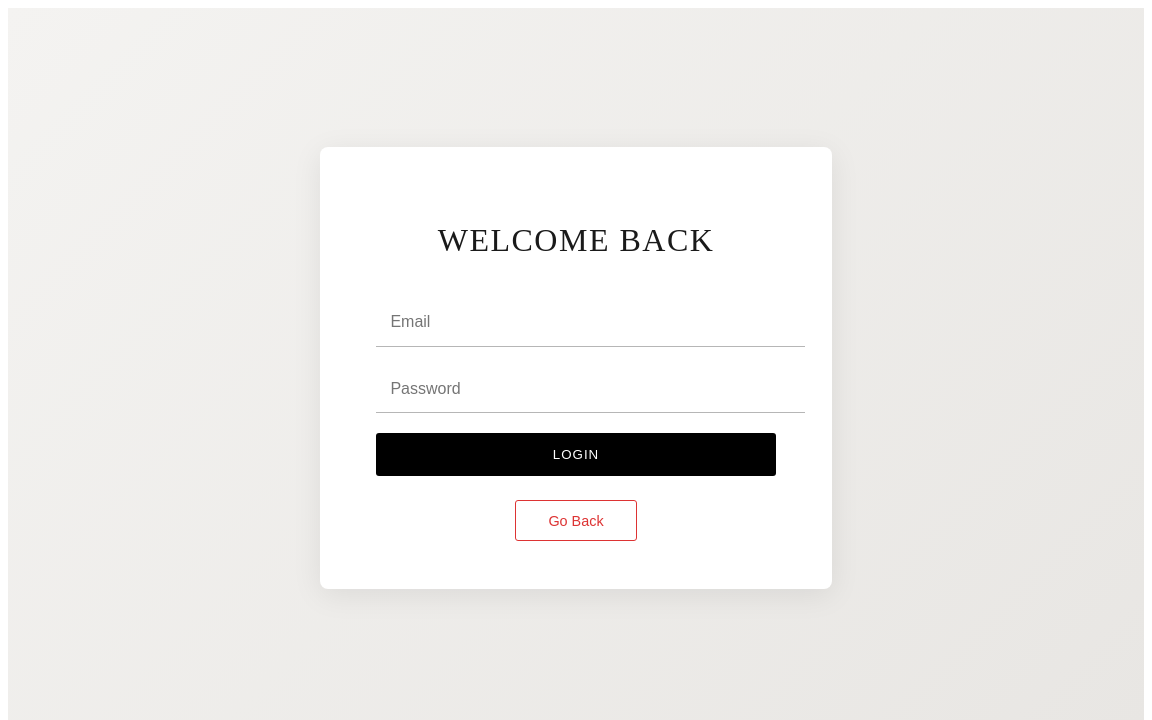
Test: Login Form › Simulates user inserting data and having no token received error
In the field with placeholder "Email": (590, 323) 376,299 -> 805,346, type "djuro@gmail.com"
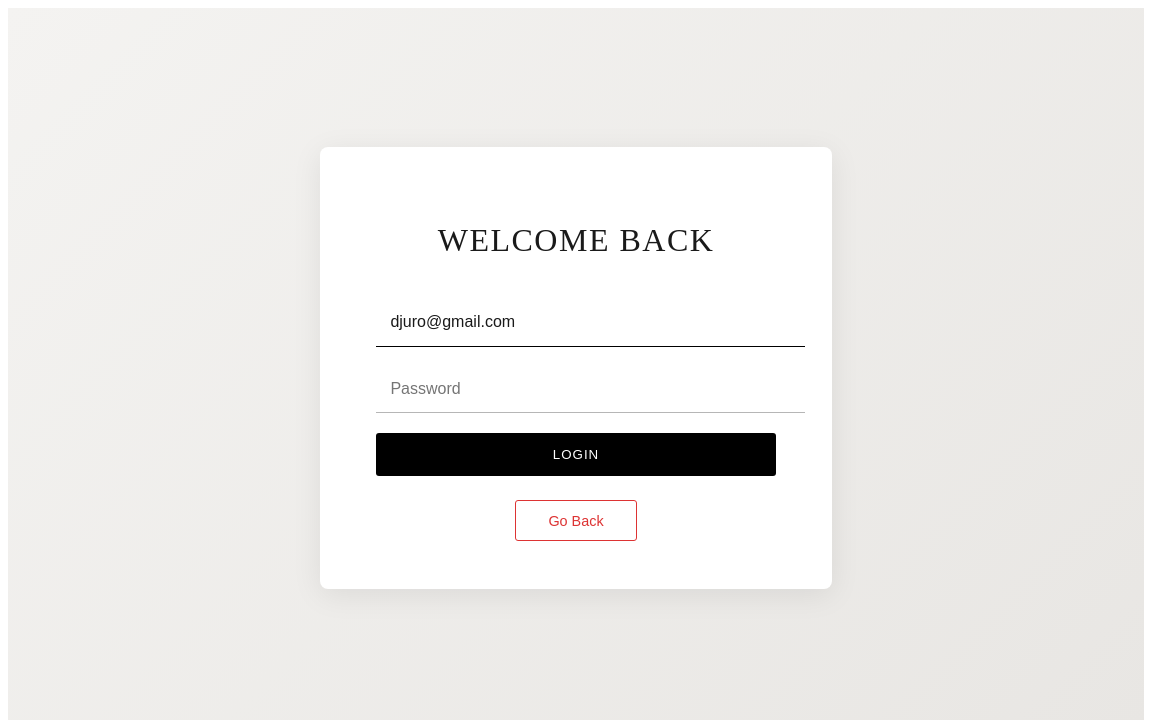
In the password field with placeholder "Password": (590, 390) 376,366 -> 805,414, type "12345678"
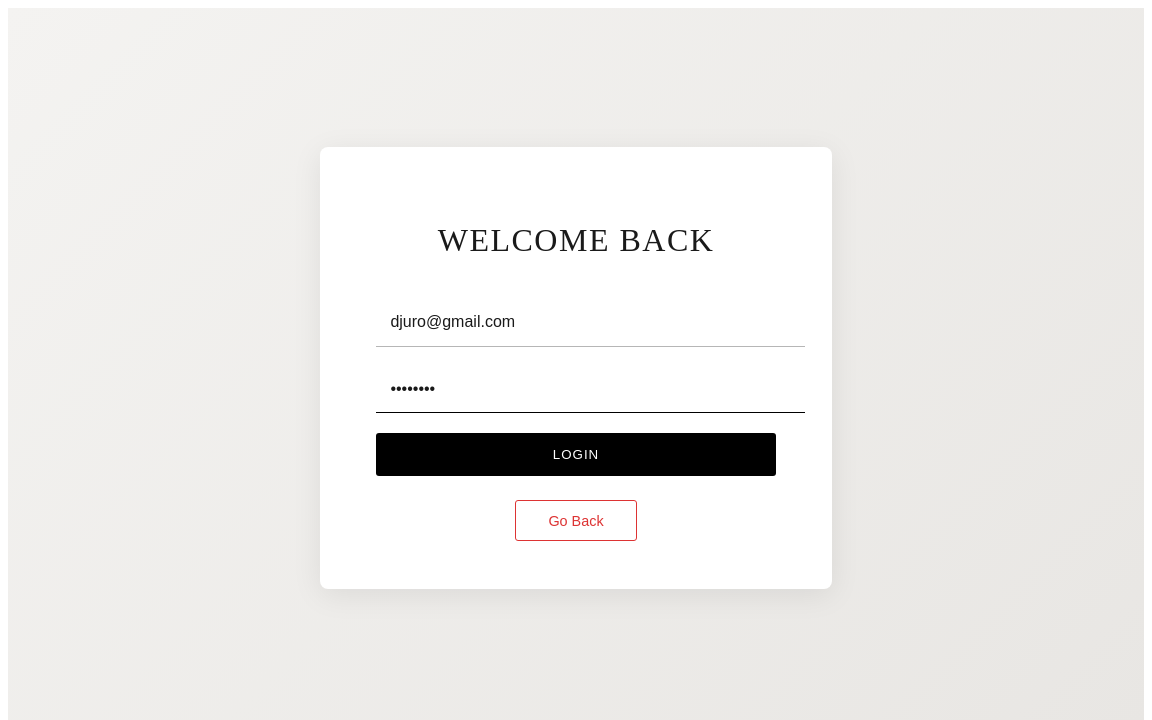
Click the button "Login": (576, 455) 376,433 -> 776,476
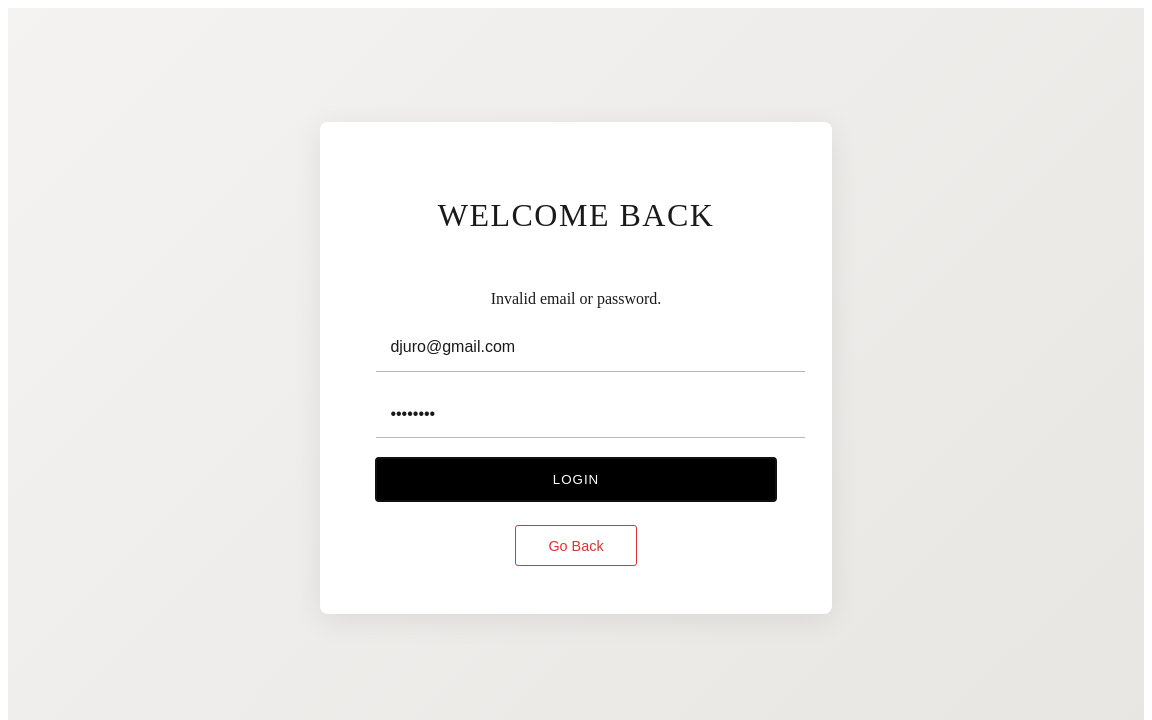
Now the text "Invalid email or password." is shown, box 491,290 -> 661,307
